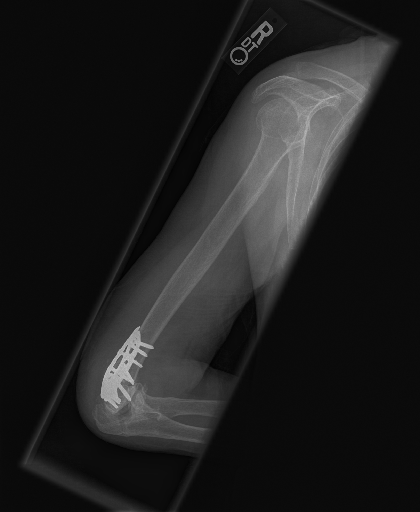implant: (99, 323, 155, 411)
